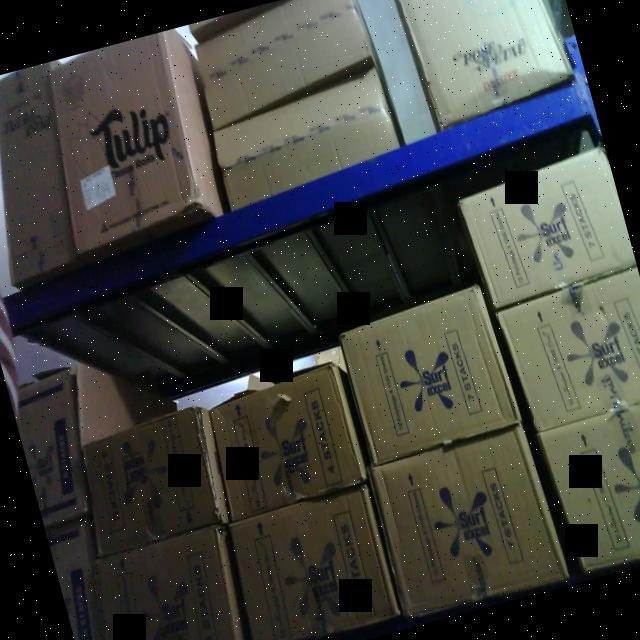box: (366, 424, 569, 622), (332, 279, 522, 470), (40, 32, 208, 244), (456, 144, 638, 314), (192, 356, 370, 526), (219, 482, 405, 640), (66, 403, 234, 563), (488, 262, 640, 438), (208, 78, 404, 202), (187, 0, 381, 120), (75, 521, 256, 640), (534, 389, 640, 581)
